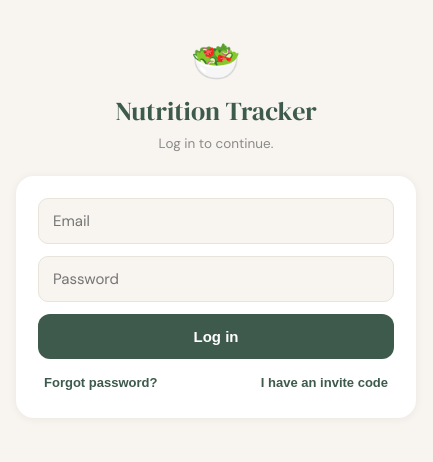
Scenario: logging in › shows the API's own message when the password is wrong
Expected: the button "Log in" is shown, [38, 314, 394, 358]
Step 1. Type "sam@example.com" into the field labelled "Email" → [216, 220], box [38, 198, 394, 244]
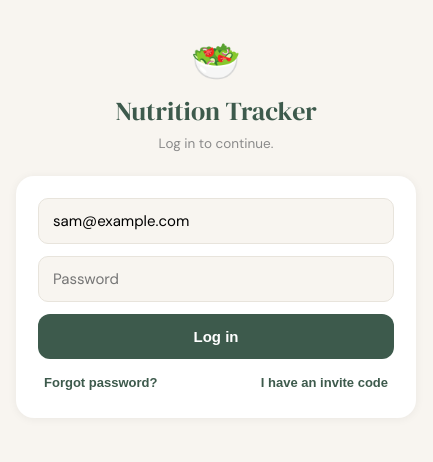
Step 2. Type "nope" into the password field labelled "Password" → [216, 278], box [38, 256, 394, 302]
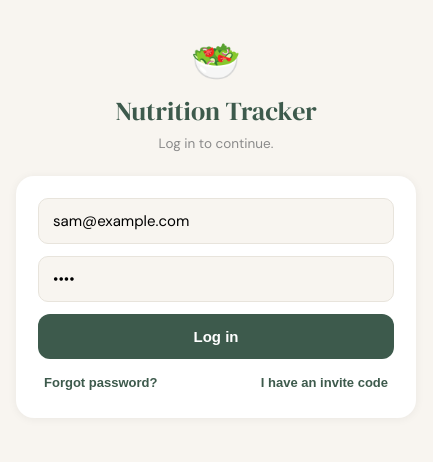
Step 3. Click the button "Log in" → [216, 336], box [38, 314, 394, 358]
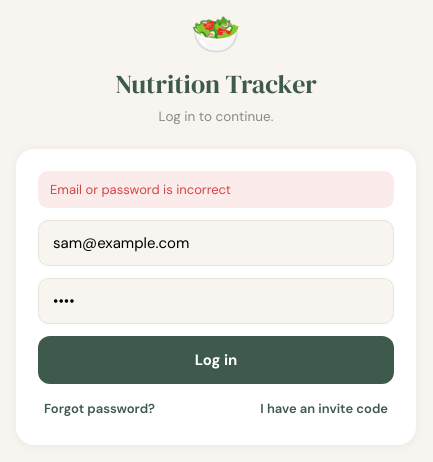
Expected: the message reads "Email or password is incorrect", [50, 180, 231, 198]
